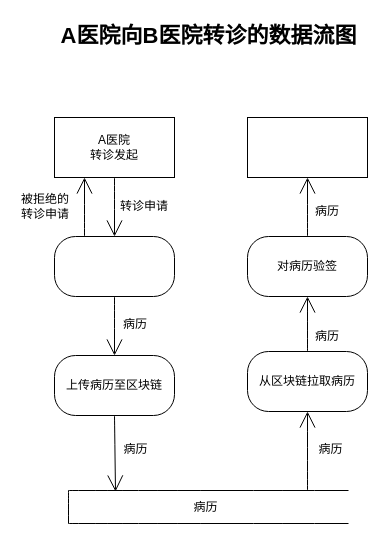
The diagram is 385 pixels wide and 542 high, and some of its shapes have lost their labels. The box of each missing label's shape, as (x1, y1, x2, y2) in pixels:
B医院 转诊接收: (246, 116, 368, 178)
管理员审批: (54, 236, 174, 296)
